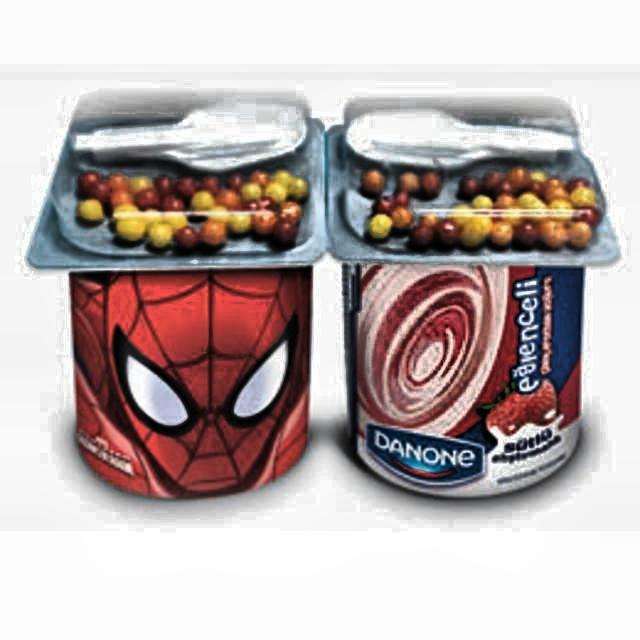plastic: (24, 96, 620, 502)
